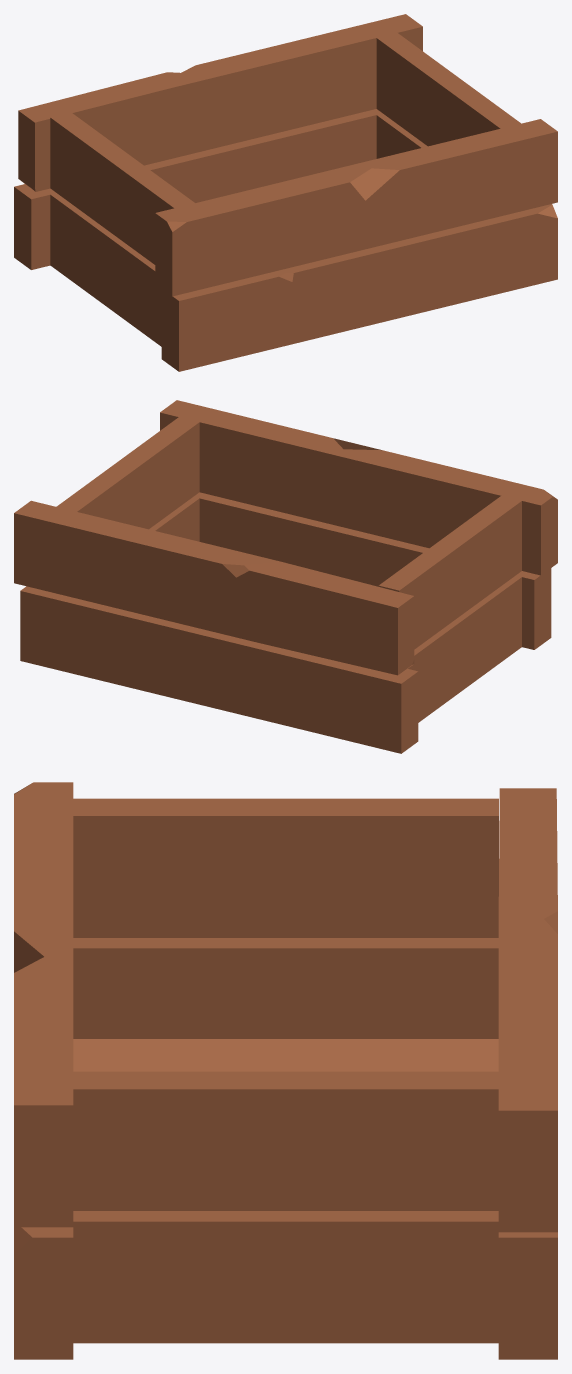
The model's file is wood_box.obj.
3 views of the same model, one above another, from view 1: azimuth 30°, elevation 25°; view 2: azimuth 150°, elevation 25°; view 3: azimuth 270°, elevation 25° (orthographic). The views are drawn at different scales.
Visible parts, largest first — view 1: wood_box; view 2: wood_box; view 3: wood_box.
Boxes of the visible parts, box(x1,y1,x2,y2) form: wood_box: box(14, 14, 557, 371); wood_box: box(14, 400, 557, 753); wood_box: box(14, 782, 557, 1359).
Size of the model in its own units: 0.4173 by 0.1506 by 0.2922.
